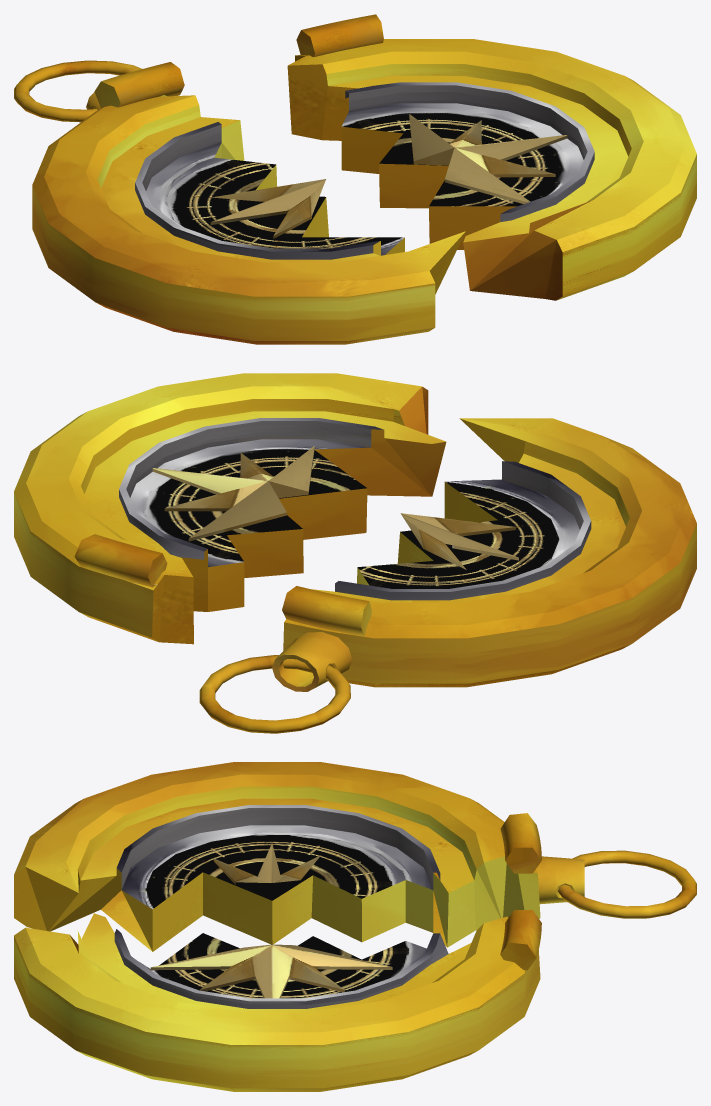
File: compass_half_both.FBX
3 views of the same model, one above another, from view 1: azimuth 30°, elevation 25°; view 2: azimuth 150°, elevation 25°; view 3: azimuth 270°, elevation 25° (orthographic). The views are drawn at different scales.
Parts seen in each view (by area): view 1: Object001, Cylinder001, Object002, Cylinder004, Torus001, Cylinder005, Object003; view 2: Object001, Cylinder001, Object002, Torus001, Object003, Cylinder005, Cylinder003, Cylinder004; view 3: Cylinder001, Object001, Object002, Torus001, Cylinder005, Object003, Cylinder003, Cylinder004.
Boxes of the visible parts, box(x1,y1,x2,y2) form: Object001: box(287, 39, 696, 300); Cylinder001: box(32, 95, 465, 344); Object002: box(409, 114, 567, 203); Cylinder004: box(210, 179, 325, 238); Torus001: box(14, 60, 141, 122); Cylinder005: box(94, 62, 184, 107); Object003: box(296, 14, 383, 57); Object001: box(14, 373, 446, 644); Cylinder001: box(283, 418, 696, 687); Object002: box(152, 446, 314, 541); Torus001: box(199, 655, 350, 733); Object003: box(74, 534, 167, 587); Cylinder005: box(282, 586, 371, 636); Cylinder003: box(272, 632, 352, 691); Cylinder004: box(400, 513, 518, 569); Cylinder001: box(14, 762, 540, 951); Object001: box(14, 913, 540, 1091); Object002: box(150, 944, 392, 998); Torus001: box(558, 850, 696, 918); Cylinder005: box(500, 813, 541, 873); Object003: box(500, 910, 541, 970); Cylinder003: box(536, 856, 584, 904); Cylinder004: box(213, 843, 320, 896).
Size of the model in its own units: 49.91 by 7.08 by 51.47.
